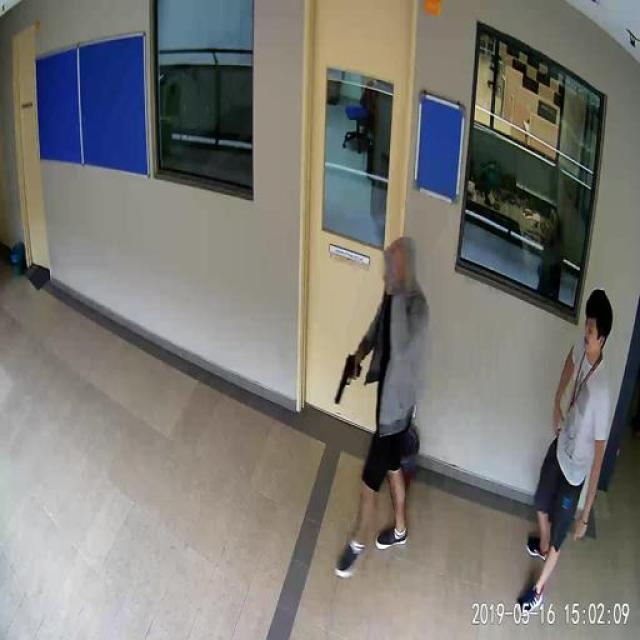Gun: (330, 354, 366, 417)
